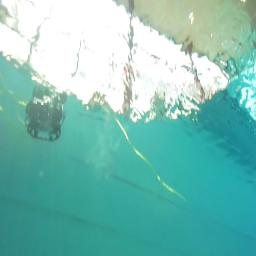Side: (24, 97, 63, 141)
